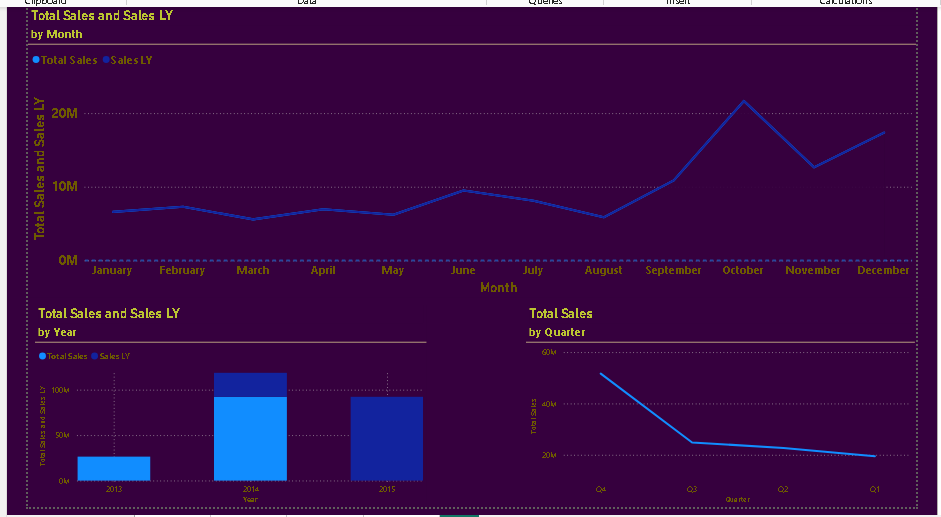

What the dashboard file says about the page in this screenshot:
{"tool":"powerbi","page":{"name":"Page 3","canvas":[1280,720],"ordinal":2},"visuals":[{"type":"lineChart","fields":{"Category":["DimDate.Date.Variation.Date Hierarchy.Month","DimDate.Date.Variation.Date Hierarchy.Day"],"Y":["Financials.Total Sales","Financials.Sales LY"]},"box":[0,0,1280.2,419],"z":0},{"type":"columnChart","fields":{"Category":["DimDate.Year"],"Y":["Financials.Total Sales","Financials.Sales LY"]},"box":[10.1,429.1,564.5,290.9],"z":1000},{"type":"lineChart","fields":{"Y":["Financials.Total Sales"],"Category":["DimDate.Date.Variation.Date Hierarchy.Year","DimDate.Date.Variation.Date Hierarchy.Quarter","DimDate.Date.Variation.Date Hierarchy.Month","DimDate.Date.Variation.Date Hierarchy.Day"]},"box":[717.1,429.1,560,290.9],"z":2000}]}

Visuals, with their boxes on the page's 1280x720 design canvas (x1, y1, x2, y2). These are canvas units, not pixel positions in the 941x517 screenshot, which may show the page scaled, cropped or inside an application window:
lineChart - DimDate.Date.Variation.Date Hierarchy.Month x DimDate.Date.Variation.Date Hierarchy.Day: {"left": 0, "top": 0, "right": 1280, "bottom": 419}
columnChart - DimDate.Year x Financials.Total Sales: {"left": 10, "top": 429, "right": 575, "bottom": 720}
lineChart - Financials.Total Sales x DimDate.Date.Variation.Date Hierarchy.Year: {"left": 717, "top": 429, "right": 1277, "bottom": 720}
